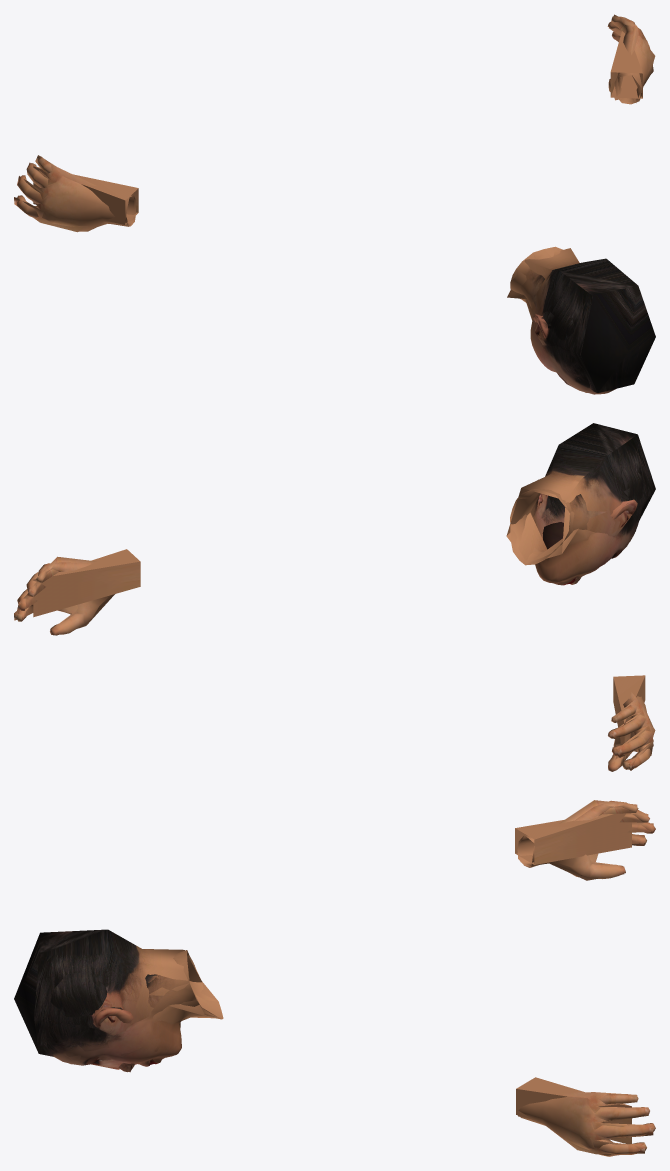
The model's file is head_000_r.obj.
3 views of the same model, one above another, from view 1: azimuth 30°, elevation 25°; view 2: azimuth 150°, elevation 25°; view 3: azimuth 270°, elevation 25° (orthographic). The views are drawn at different scales.
Parts seen in each view (by area): view 1: head_000_r_low_1, head_000_r_high_1, head_000_r_med_1; view 2: head_000_r_low_1, head_000_r_high_1, head_000_r_med_1; view 3: head_000_r_low_1, head_000_r_high_1, head_000_r_med_1.
Part boxes in pixels (bbox=[...]): head_000_r_low_1: bbox=[33, 31, 655, 392]; head_000_r_high_1: bbox=[16, 16, 655, 394]; head_000_r_med_1: bbox=[14, 14, 649, 392]; head_000_r_low_1: bbox=[33, 423, 655, 760]; head_000_r_high_1: bbox=[16, 468, 655, 771]; head_000_r_med_1: bbox=[14, 479, 653, 770]; head_000_r_low_1: bbox=[14, 813, 631, 1143]; head_000_r_high_1: bbox=[46, 800, 655, 1156]; head_000_r_med_1: bbox=[45, 800, 653, 1154].
Bounding box in the file's own units: 1.09 × 0.2104 × 0.9365.
